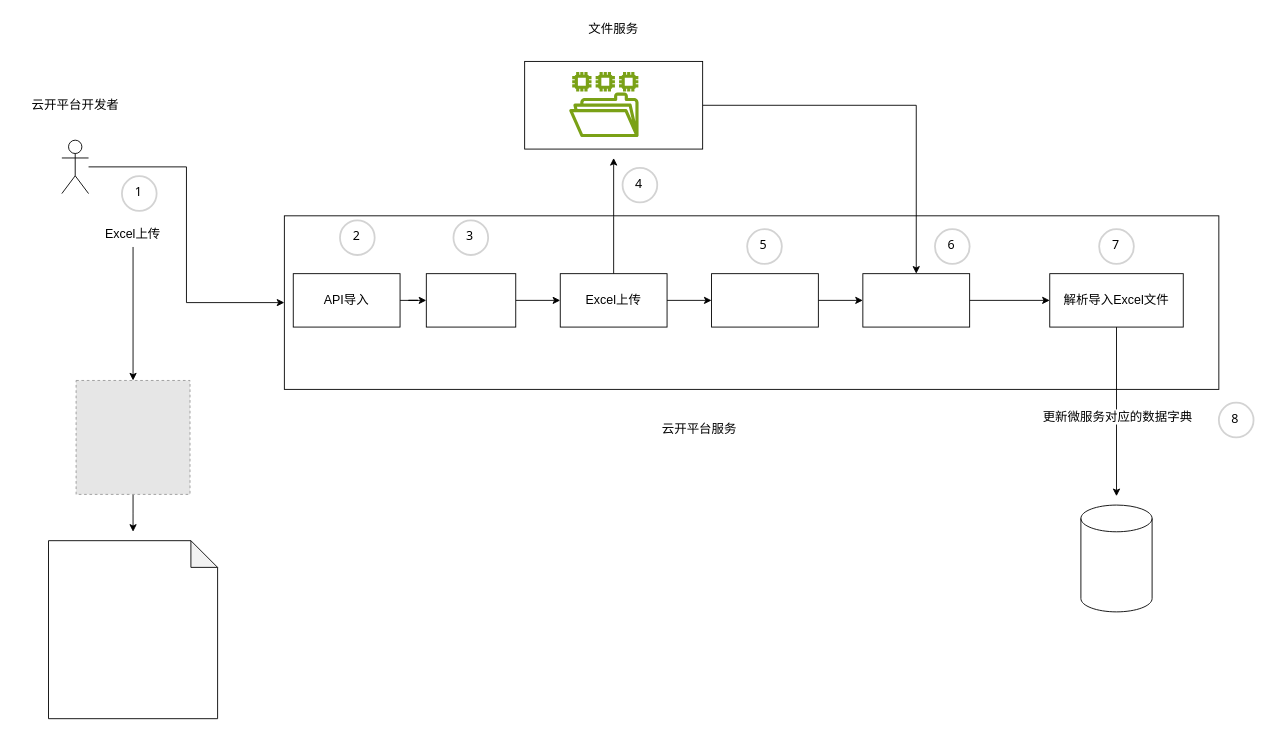
The diagram is 1270 pixels wide and 734 high, and some of its shapes have lost their labels. Grey dashed boxes stand in for pictures. The shapes that lost their labels are listed below. From the top down, each one's centre as x and y in pixels, then its label:
At (x=75, y=166): "Actor".
At (x=470, y=300): "创建导入Task".
At (x=764, y=300): "启动导入任务".
At (x=916, y=300): "下载导入文件".
At (x=1116, y=558): "MySQL".
At (x=133, y=629): "应用基本信息 模块 微服务信息 API信息 API请求体 API响应体 API依赖信息".
